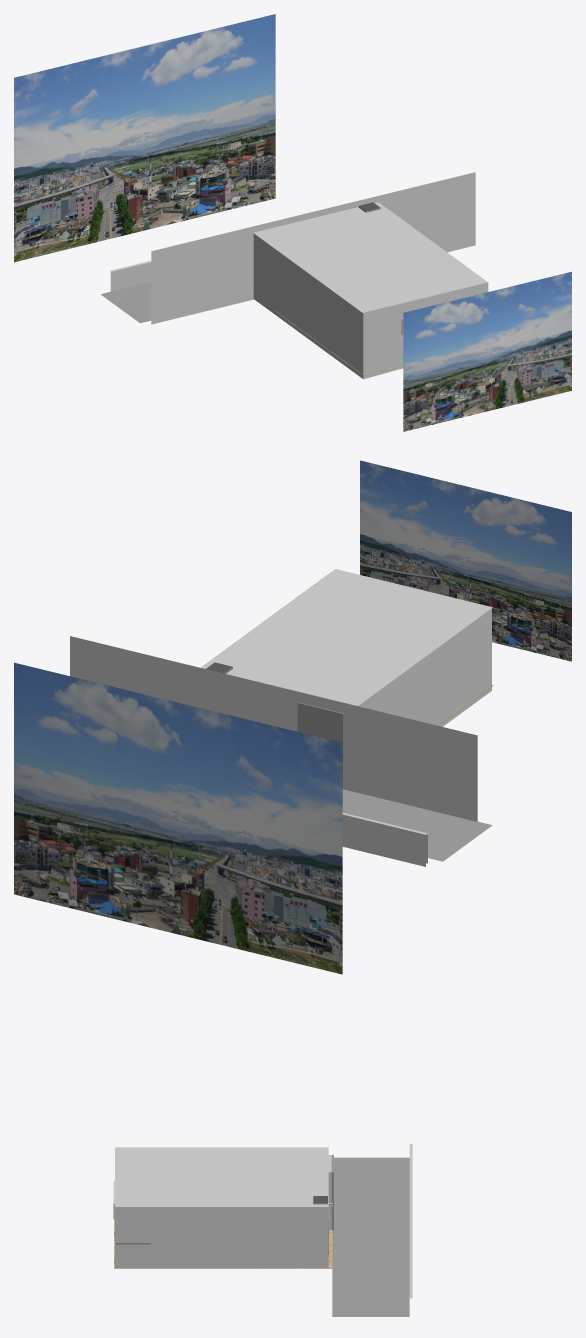
The model's file is MAP_Wave_Player_Room.fbx.
The picture shows the model from 3 angles, top to bottom: view 1: azimuth 30°, elevation 25°; view 2: azimuth 150°, elevation 25°; view 3: azimuth 270°, elevation 25°; orthographic projection. The views are drawn at different scales.
Parts seen in each view (by area): view 1: Player_Room_Main; view 2: Player_Room_Main, Player_Room_Door; view 3: Player_Room_Main.
Part boxes in pixels (x1,y1,x2,y2): Player_Room_Main: [14, 14, 571, 431]; Player_Room_Main: [14, 460, 571, 974]; Player_Room_Door: [297, 702, 343, 789]; Player_Room_Main: [113, 1144, 412, 1316].
Bounding box in the file's own units: 2529 × 1315 × 3691.
